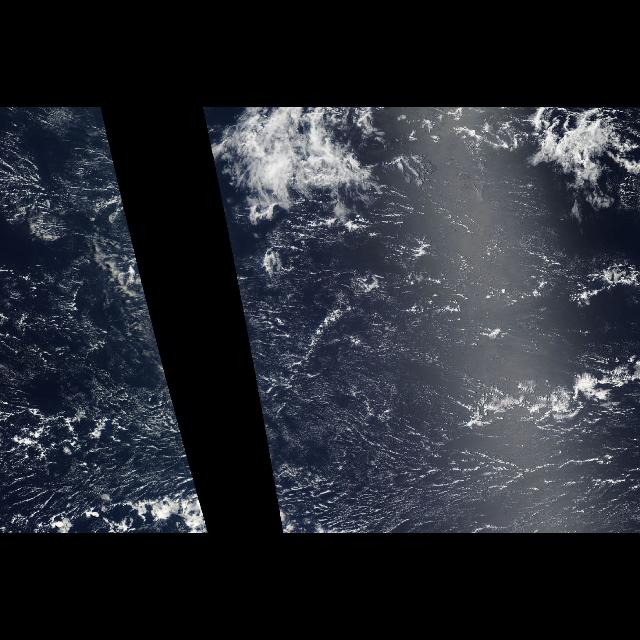Gravel: (4, 265, 188, 453)
Sugar: (223, 213, 639, 531), (8, 213, 210, 531)
